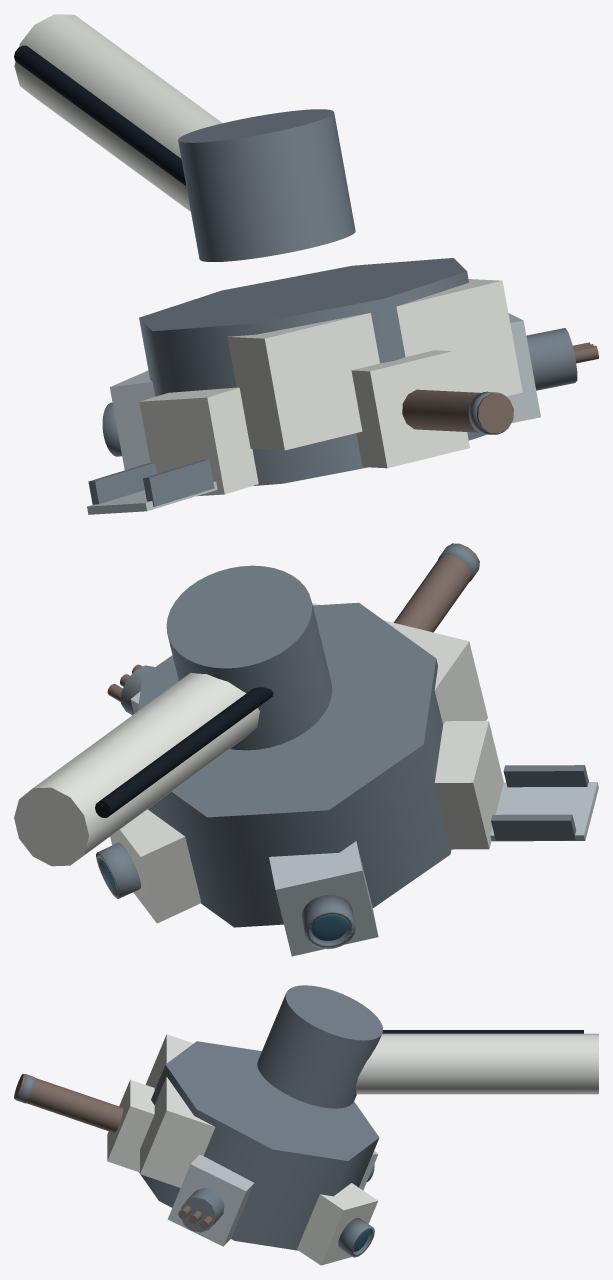
Rendered from curiosity_arm.shoulder_azimuth.shoulder_elevation.elbow.forearm.glb.
The picture shows the model from 3 angles, top to bottom: view 1: azimuth 30°, elevation 25°; view 2: azimuth 150°, elevation 25°; view 3: azimuth 270°, elevation 25°; orthographic projection. The views are drawn at different scales.
Parts seen in each view (by area): view 1: curiosity_arm.shoulder_azimuth.shoulder_elevation.elbow.fore (×3), curiosity_turret.mesh_Pale_thermal_blanket, curiosity_turret.mesh_Machined_steel, curiosity_turret.chimra.mesh_Pale_thermal_blanket, curiosity_turret.drill.mesh_Pale_thermal_blanket, curiosity_turret.drill.mesh_Heat-stained_alloy, curiosity_turret.chimra.mesh_Machined_steel, curiosity_turret.apxs.mesh_Satin_aluminum, curiosity_turret.drt.mesh_Machined_steel, curiosity_turret.drt.mesh_Satin_aluminum, curiosity_turret.chimra.mesh_Satin_aluminum, curiosity_turret.apxs.aperture.mesh_Machined_steel; view 2: curiosity_turret.mesh_Machined_steel, curiosity_arm.shoulder_azimuth.shoulder_elevation.elbow.fore (×3), curiosity_turret.chimra.mesh_Pale_thermal_blanket, curiosity_turret.apxs.mesh_Satin_aluminum, curiosity_turret.mahli.mesh_Pale_thermal_blanket, curiosity_turret.mesh_Pale_thermal_blanket, curiosity_turret.chimra.mesh_Machined_steel, curiosity_turret.chimra.mesh_Satin_aluminum, curiosity_turret.drill.mesh_Heat-stained_alloy, curiosity_turret.apxs.aperture.mesh_Machined_steel, curiosity_turret.mahli.aperture.mesh_Machined_steel, curiosity_turret.apxs.aperture.lens.mesh_Coated_optical_glas (+2 smaller); view 3: curiosity_arm.shoulder_azimuth.shoulder_elevation.elbow.fore (×3), curiosity_turret.mesh_Machined_steel, curiosity_turret.mesh_Pale_thermal_blanket, curiosity_turret.mahli.mesh_Pale_thermal_blanket, curiosity_turret.drt.mesh_Satin_aluminum, curiosity_turret.drill.mesh_Pale_thermal_blanket, curiosity_turret.drill.mesh_Heat-stained_alloy, curiosity_turret.drt.mesh_Machined_steel, curiosity_turret.mahli.aperture.mesh_Machined_steel.
Boxes of the visible parts, x1,y1,x2,y2 form: curiosity_arm.shoulder_azimuth.shoulder_elevation.elbow.fore (×3): [14, 14, 355, 261]; curiosity_turret.mesh_Pale_thermal_blanket: [227, 279, 522, 450]; curiosity_turret.mesh_Machined_steel: [139, 258, 487, 485]; curiosity_turret.chimra.mesh_Pale_thermal_blanket: [139, 387, 258, 496]; curiosity_turret.drill.mesh_Pale_thermal_blanket: [351, 350, 469, 468]; curiosity_turret.drill.mesh_Heat-stained_alloy: [402, 389, 513, 433]; curiosity_turret.chimra.mesh_Machined_steel: [88, 459, 214, 506]; curiosity_turret.apxs.mesh_Satin_aluminum: [109, 370, 155, 470]; curiosity_turret.drt.mesh_Machined_steel: [526, 328, 577, 390]; curiosity_turret.drt.mesh_Satin_aluminum: [506, 313, 540, 423]; curiosity_turret.chimra.mesh_Satin_aluminum: [87, 481, 217, 514]; curiosity_turret.apxs.aperture.mesh_Machined_steel: [102, 402, 121, 456]; curiosity_turret.mesh_Machined_steel: [137, 602, 451, 927]; curiosity_arm.shoulder_azimuth.shoulder_elevation.elbow.fore (×3): [14, 565, 332, 866]; curiosity_turret.chimra.mesh_Pale_thermal_blanket: [434, 721, 503, 849]; curiosity_turret.apxs.mesh_Satin_aluminum: [269, 841, 378, 956]; curiosity_turret.mahli.mesh_Pale_thermal_blanket: [110, 809, 201, 923]; curiosity_turret.mesh_Pale_thermal_blanket: [312, 603, 487, 724]; curiosity_turret.chimra.mesh_Machined_steel: [491, 765, 588, 840]; curiosity_turret.chimra.mesh_Satin_aluminum: [490, 782, 598, 841]; curiosity_turret.drill.mesh_Heat-stained_alloy: [393, 543, 479, 632]; curiosity_turret.apxs.aperture.mesh_Machined_steel: [302, 894, 355, 949]; curiosity_turret.mahli.aperture.mesh_Machined_steel: [96, 842, 140, 898]; curiosity_turret.apxs.aperture.lens.mesh_Coated_optical_glas: [311, 915, 348, 940]; curiosity_arm.shoulder_azimuth.shoulder_elevation.elbow.fore (×3): [257, 985, 598, 1108]; curiosity_turret.mesh_Machined_steel: [139, 1041, 379, 1250]; curiosity_turret.mesh_Pale_thermal_blanket: [140, 1034, 215, 1187]; curiosity_turret.mahli.mesh_Pale_thermal_blanket: [297, 1183, 377, 1265]; curiosity_turret.drt.mesh_Satin_aluminum: [167, 1154, 254, 1246]; curiosity_turret.drill.mesh_Pale_thermal_blanket: [107, 1079, 154, 1172]; curiosity_turret.drill.mesh_Heat-stained_alloy: [14, 1073, 123, 1133]; curiosity_turret.drt.mesh_Machined_steel: [181, 1188, 224, 1232]; curiosity_turret.mahli.aperture.mesh_Machined_steel: [338, 1218, 374, 1257].
Bounding box in the file's own units: 0.7668 × 0.5205 × 1.17.
